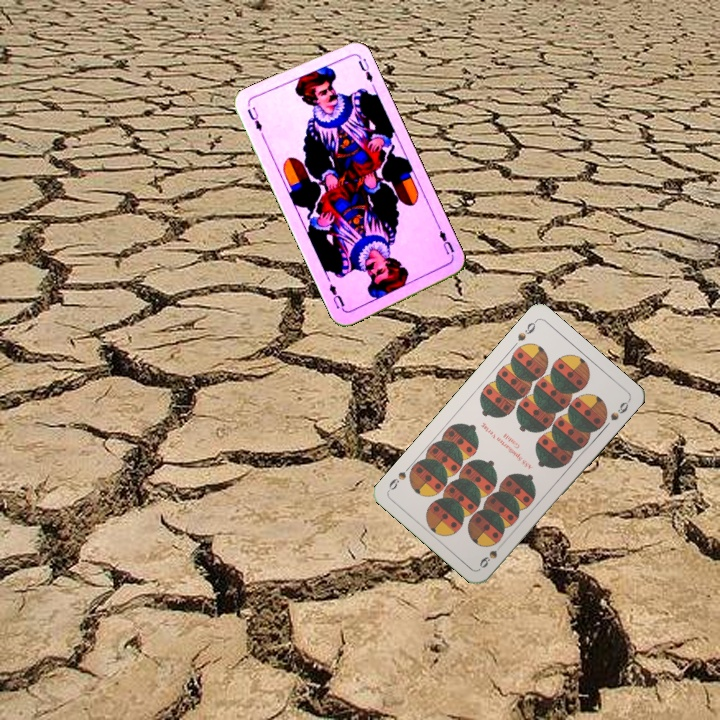EU: (434, 222, 457, 261), (243, 103, 265, 134)
S9: (475, 538, 507, 571), (513, 316, 539, 343)
